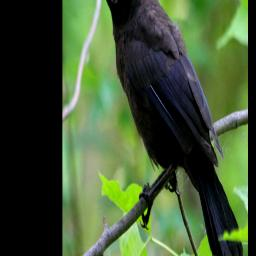Crow: (90, 0, 245, 256)
